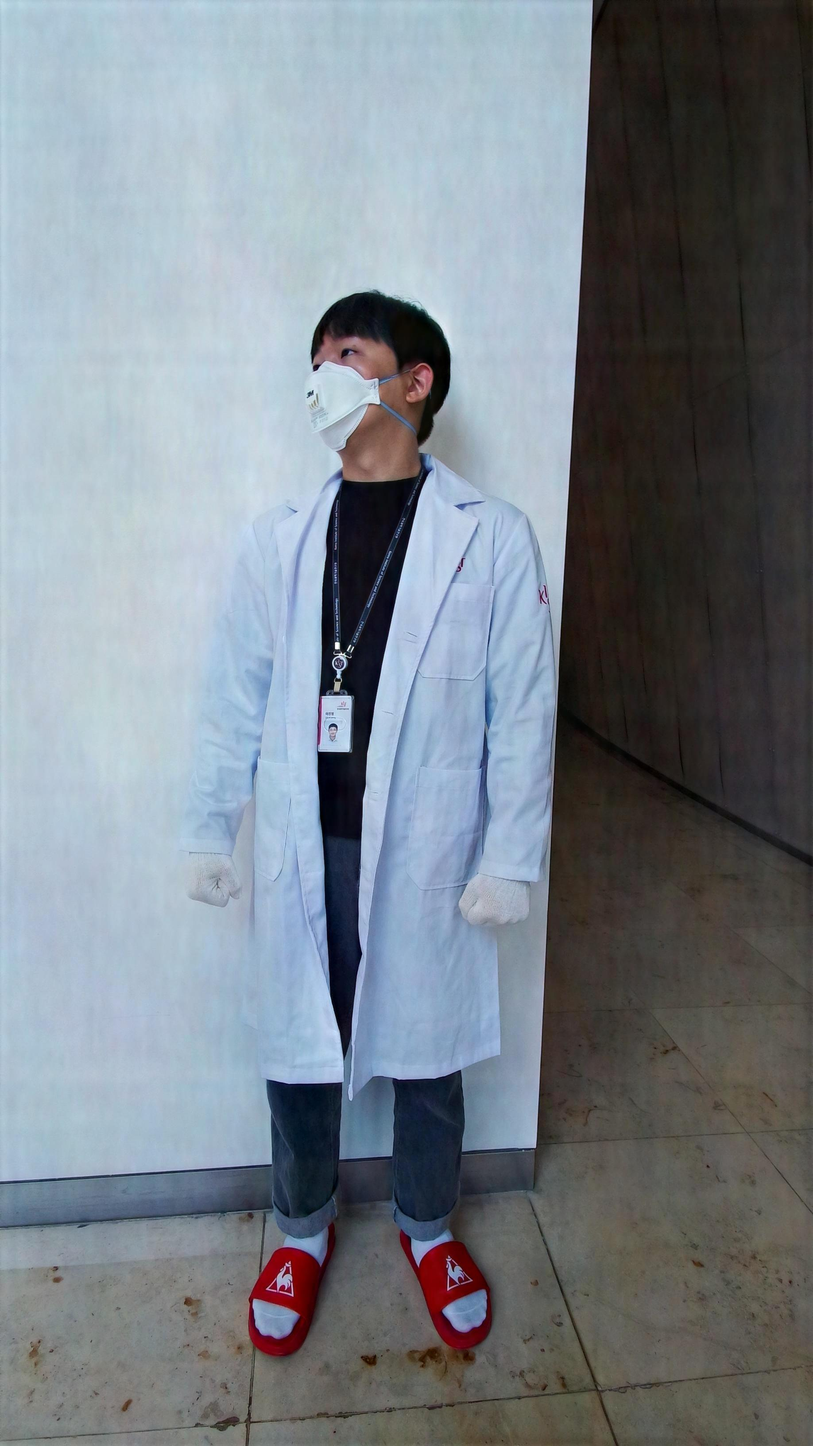Lab_coat: (176, 452, 558, 1103)
